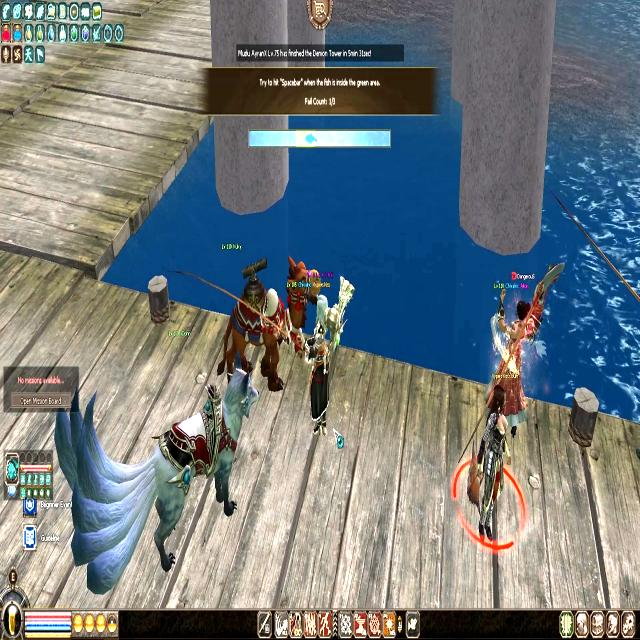fishes: (304, 131, 318, 145)
